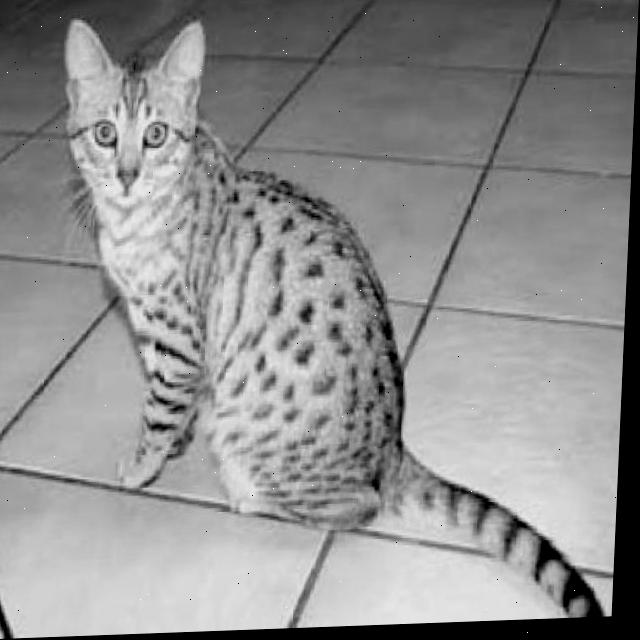Cat: (38, 0, 633, 635)
